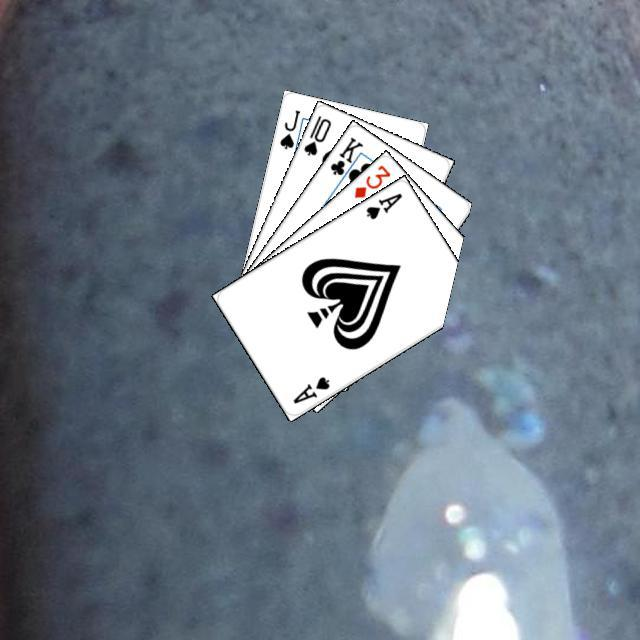10s: (299, 110, 333, 157)
3d: (349, 160, 392, 200)
As: (288, 371, 332, 405), (361, 188, 404, 221)
Js: (275, 105, 302, 151)
Kc: (325, 132, 365, 186)
